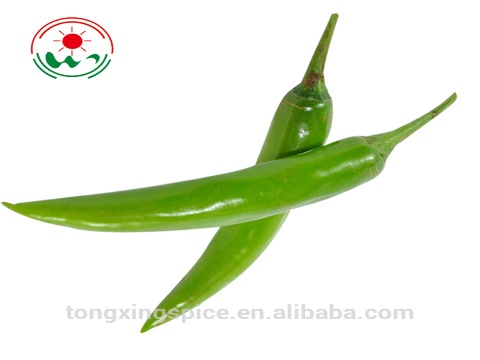Chilli: (1, 89, 466, 250)
